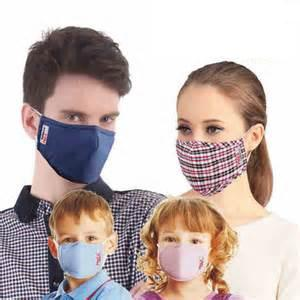OK: (39, 100, 121, 184), (178, 113, 252, 197), (160, 227, 211, 279), (57, 227, 110, 276)
